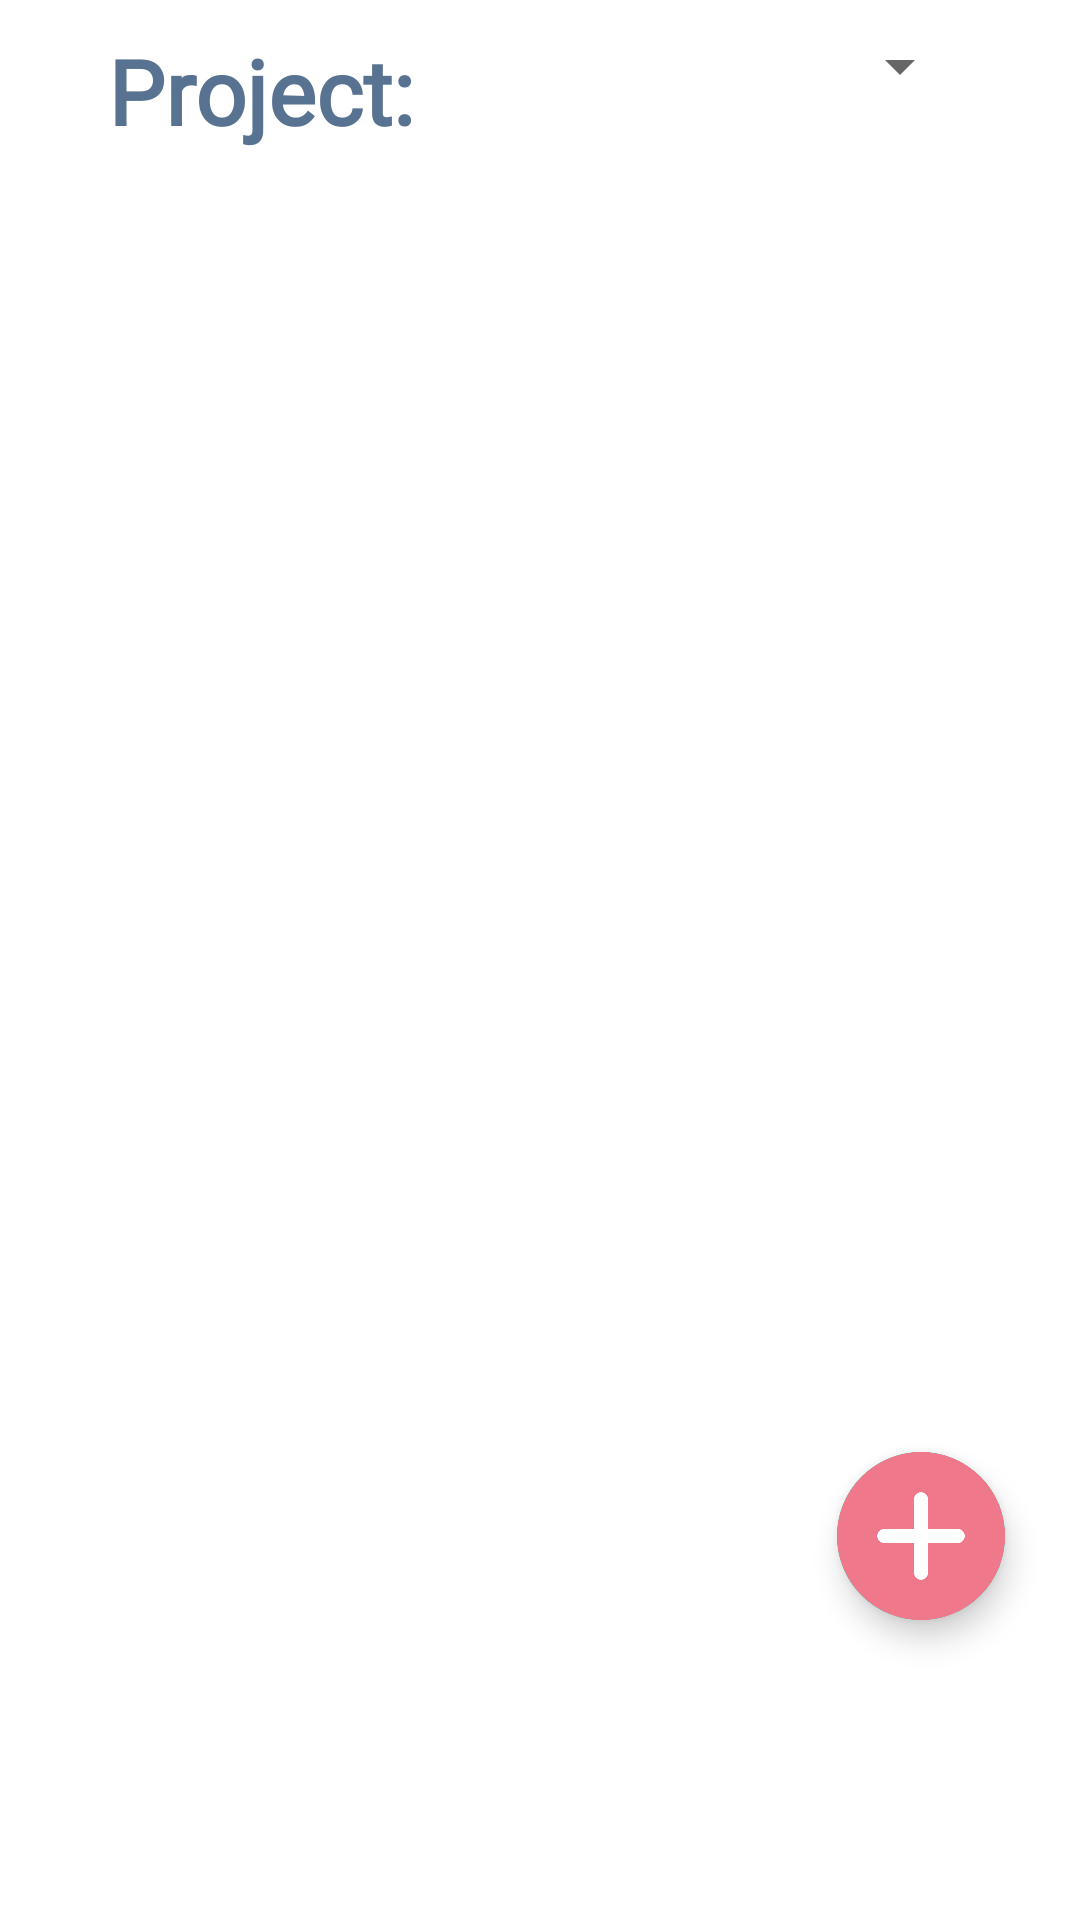

Icons on this 1080px×1920px Android screen, each with its box as {"left": x1, "top": y1, "right": x2, "bottom": y2}:
plus: {"left": 837, "top": 1452, "right": 1005, "bottom": 1620}
